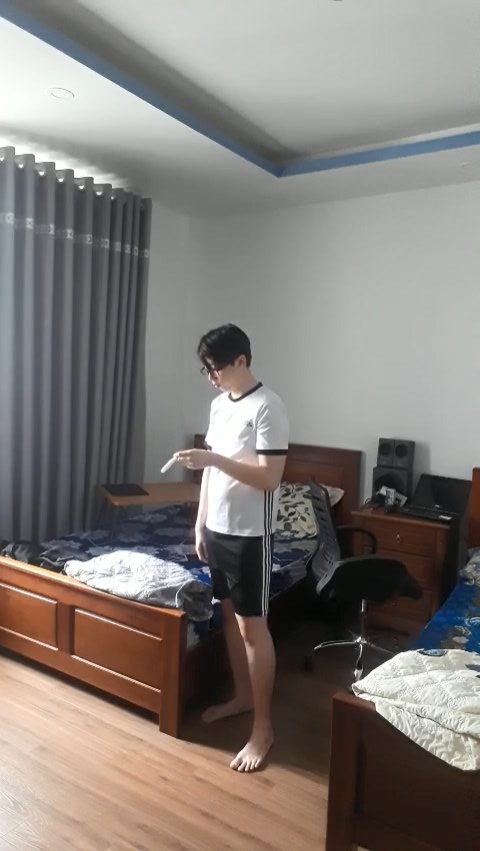cigarette: (160, 454, 177, 475)
person: (176, 320, 296, 775)
